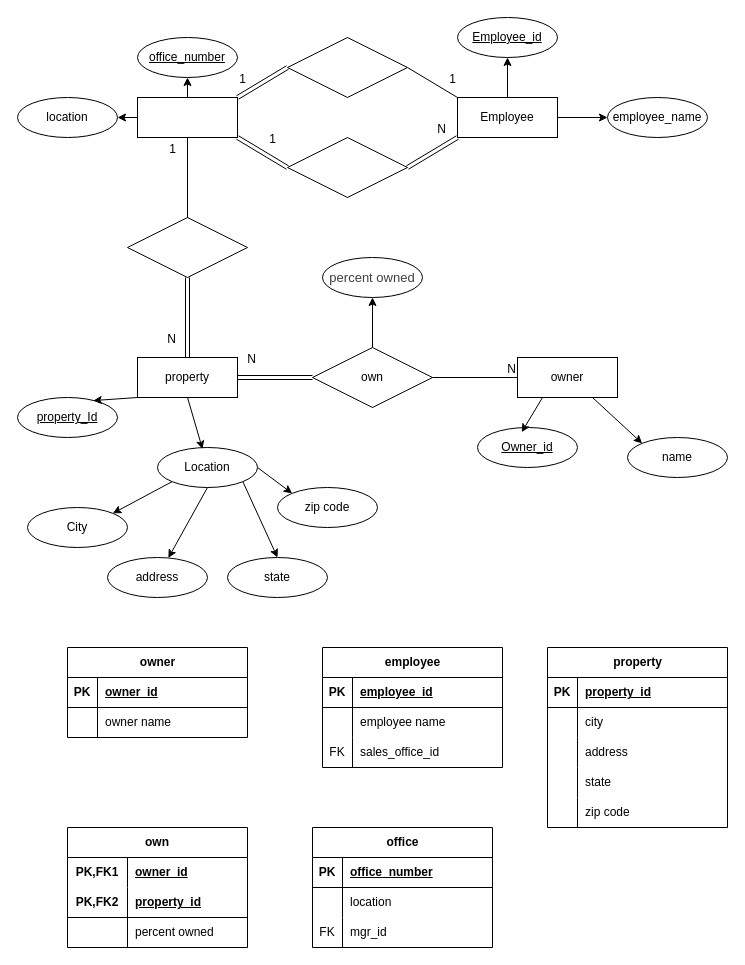
The diagram is 745 pixels wide and 965 high, and some of its shapes have lost their labels. The centre of each missing label's shape, as x and y in pixels:
Listed: point 187,247
manage: point 347,67
sales office: point 187,117
works for: point 347,167
